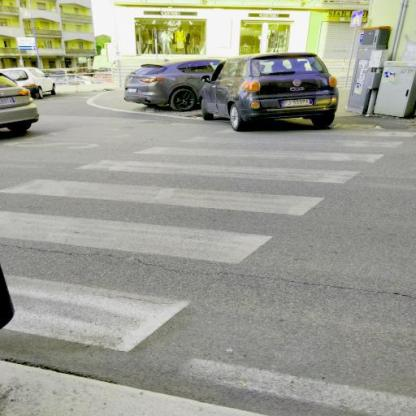crosswalk: (68, 144, 390, 192)
